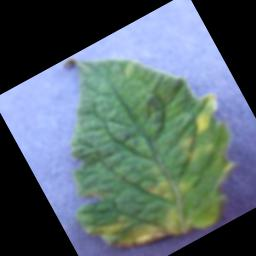Leaf_Mold: (104, 201, 189, 256), (181, 89, 231, 137), (82, 206, 131, 247)
